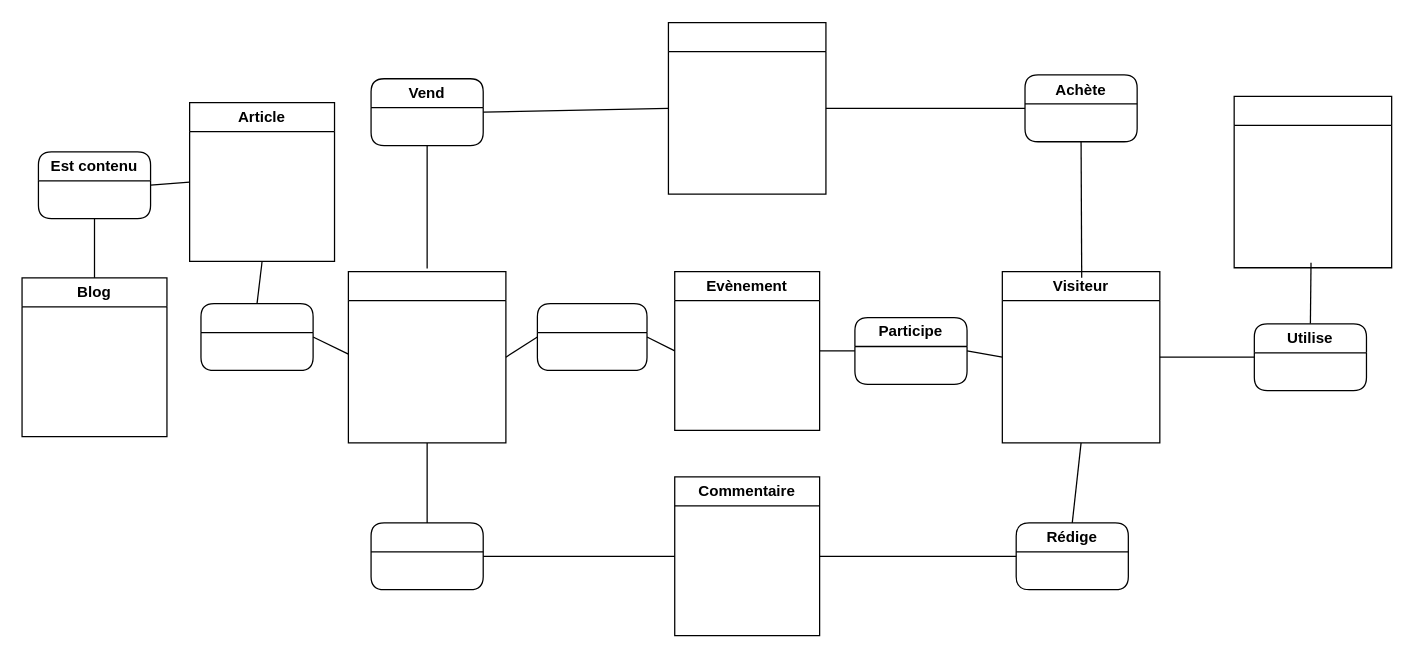
Image size: 1414x658. Some labels were removed from this diagram. Here are the shapes that lost their labels. From the top down, the box of each, then its label:
(667, 21, 826, 194): Service
(1233, 95, 1392, 268): Formulaire
(200, 302, 313, 370): Ecrit
(536, 302, 647, 370): Organise
(347, 270, 506, 443): Admin
(370, 522, 483, 590): Valide
